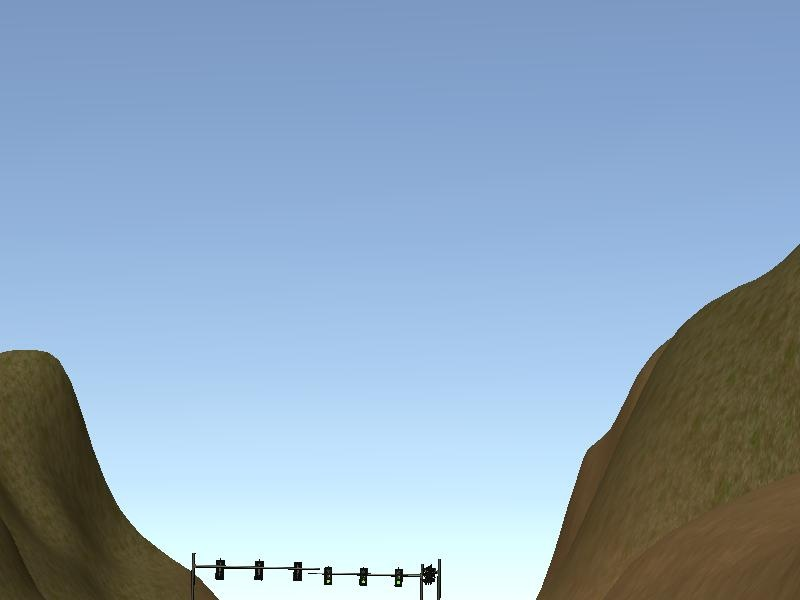traffic_light_green: (312, 565, 421, 588)
